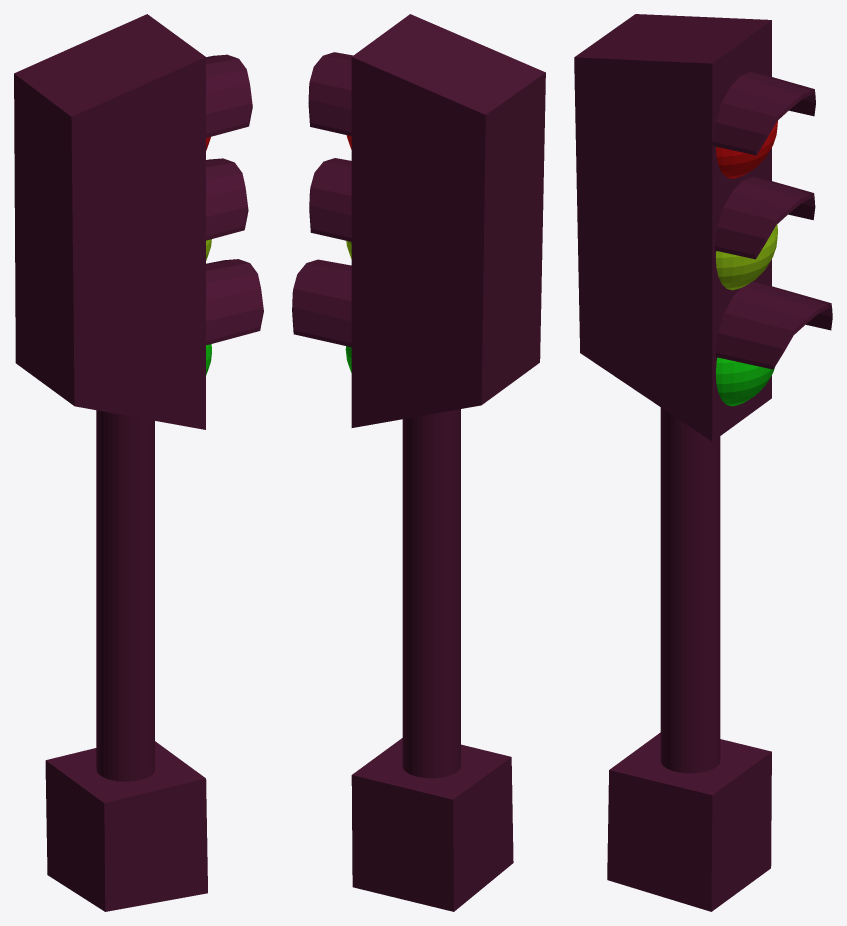
The model's file is stoplight.obj.
3 renders of one model, left to right at view 1: azimuth 30°, elevation 25°; view 2: azimuth 150°, elevation 25°; view 3: azimuth 330°, elevation 25°, orthographic.
Parts seen in each view (by area): view 1: Stoplight_StoplightMat; view 2: Stoplight_StoplightMat; view 3: Stoplight_StoplightMat, Stoplight_Green, Stoplight_Yellow, Stoplight_Red.
Boxes of the visible parts, x1,y1,x2,y2 form: Stoplight_StoplightMat: (14, 14, 263, 911); Stoplight_StoplightMat: (292, 14, 545, 911); Stoplight_StoplightMat: (574, 14, 832, 911); Stoplight_Green: (716, 357, 774, 406); Stoplight_Yellow: (716, 224, 777, 290); Stoplight_Red: (716, 121, 777, 178).
Bounding box in the file's own units: 4.13 × 15.68 × 2.07.
